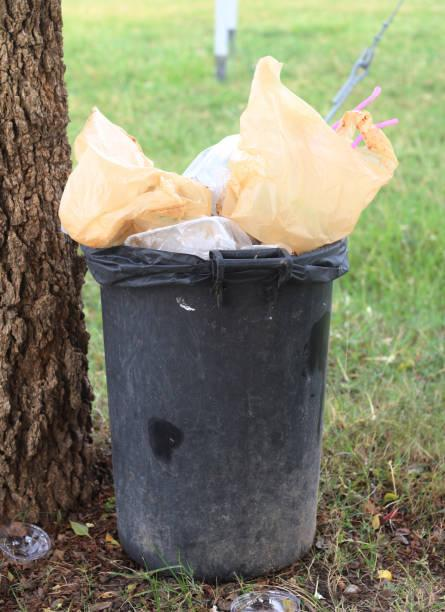trash: (216, 43, 418, 281), (47, 73, 218, 257), (140, 206, 256, 274), (190, 116, 250, 230)
trash_can_overflow: (52, 91, 366, 573)
